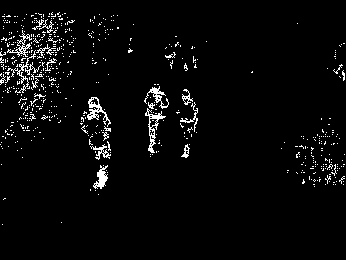person: (82, 96, 116, 189), (175, 90, 201, 159), (145, 81, 164, 157)
